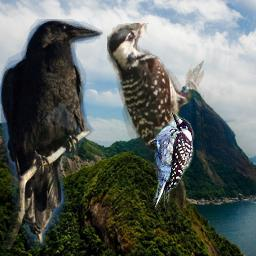Crow: (0, 19, 103, 249)
Woodpecker: (107, 23, 204, 213), (137, 107, 201, 217)
